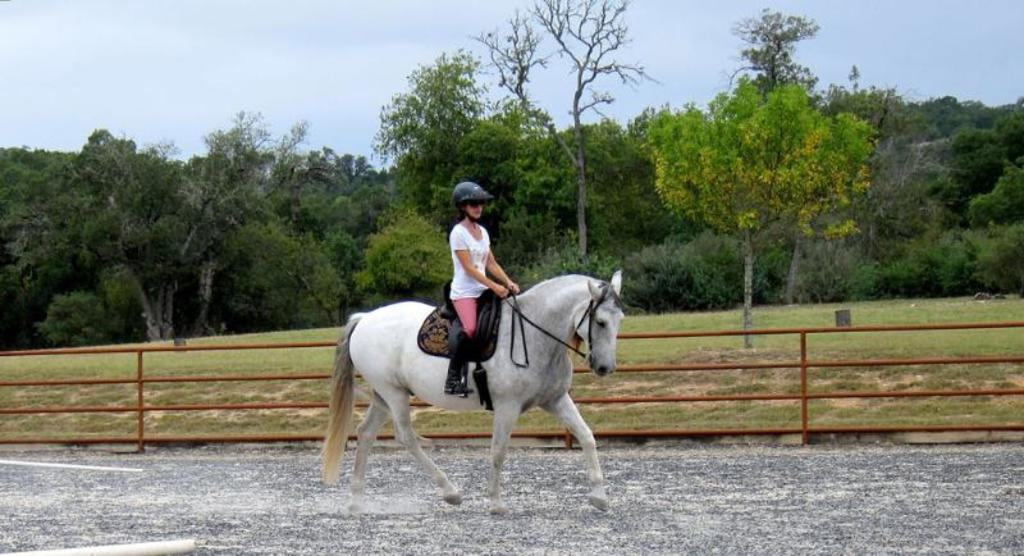Person: (444, 180, 519, 396)
